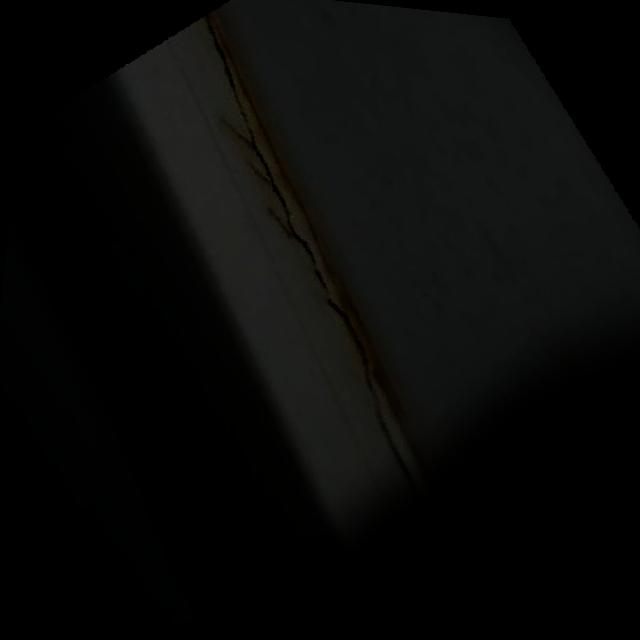crack: (197, 16, 263, 135), (243, 135, 297, 224), (326, 304, 379, 391), (286, 225, 336, 302), (390, 454, 430, 520), (370, 388, 404, 454)
